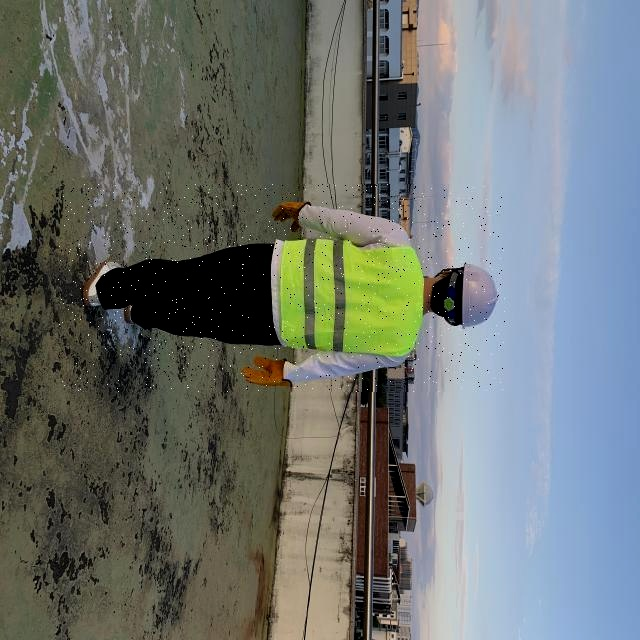gloves: (324, 188, 376, 225), (345, 359, 397, 394)
helmet: (139, 259, 182, 332)
vest: (216, 235, 364, 359)
